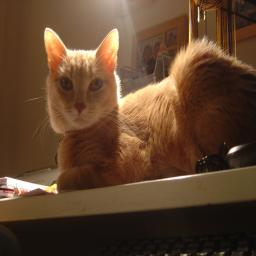catnose: (73, 102, 87, 114)
